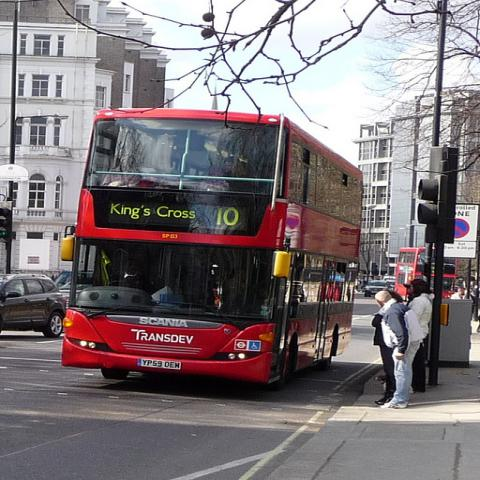bus: (59, 107, 363, 386)
car: (0, 273, 68, 338), (56, 271, 74, 301), (364, 281, 388, 297), (386, 282, 395, 290)
